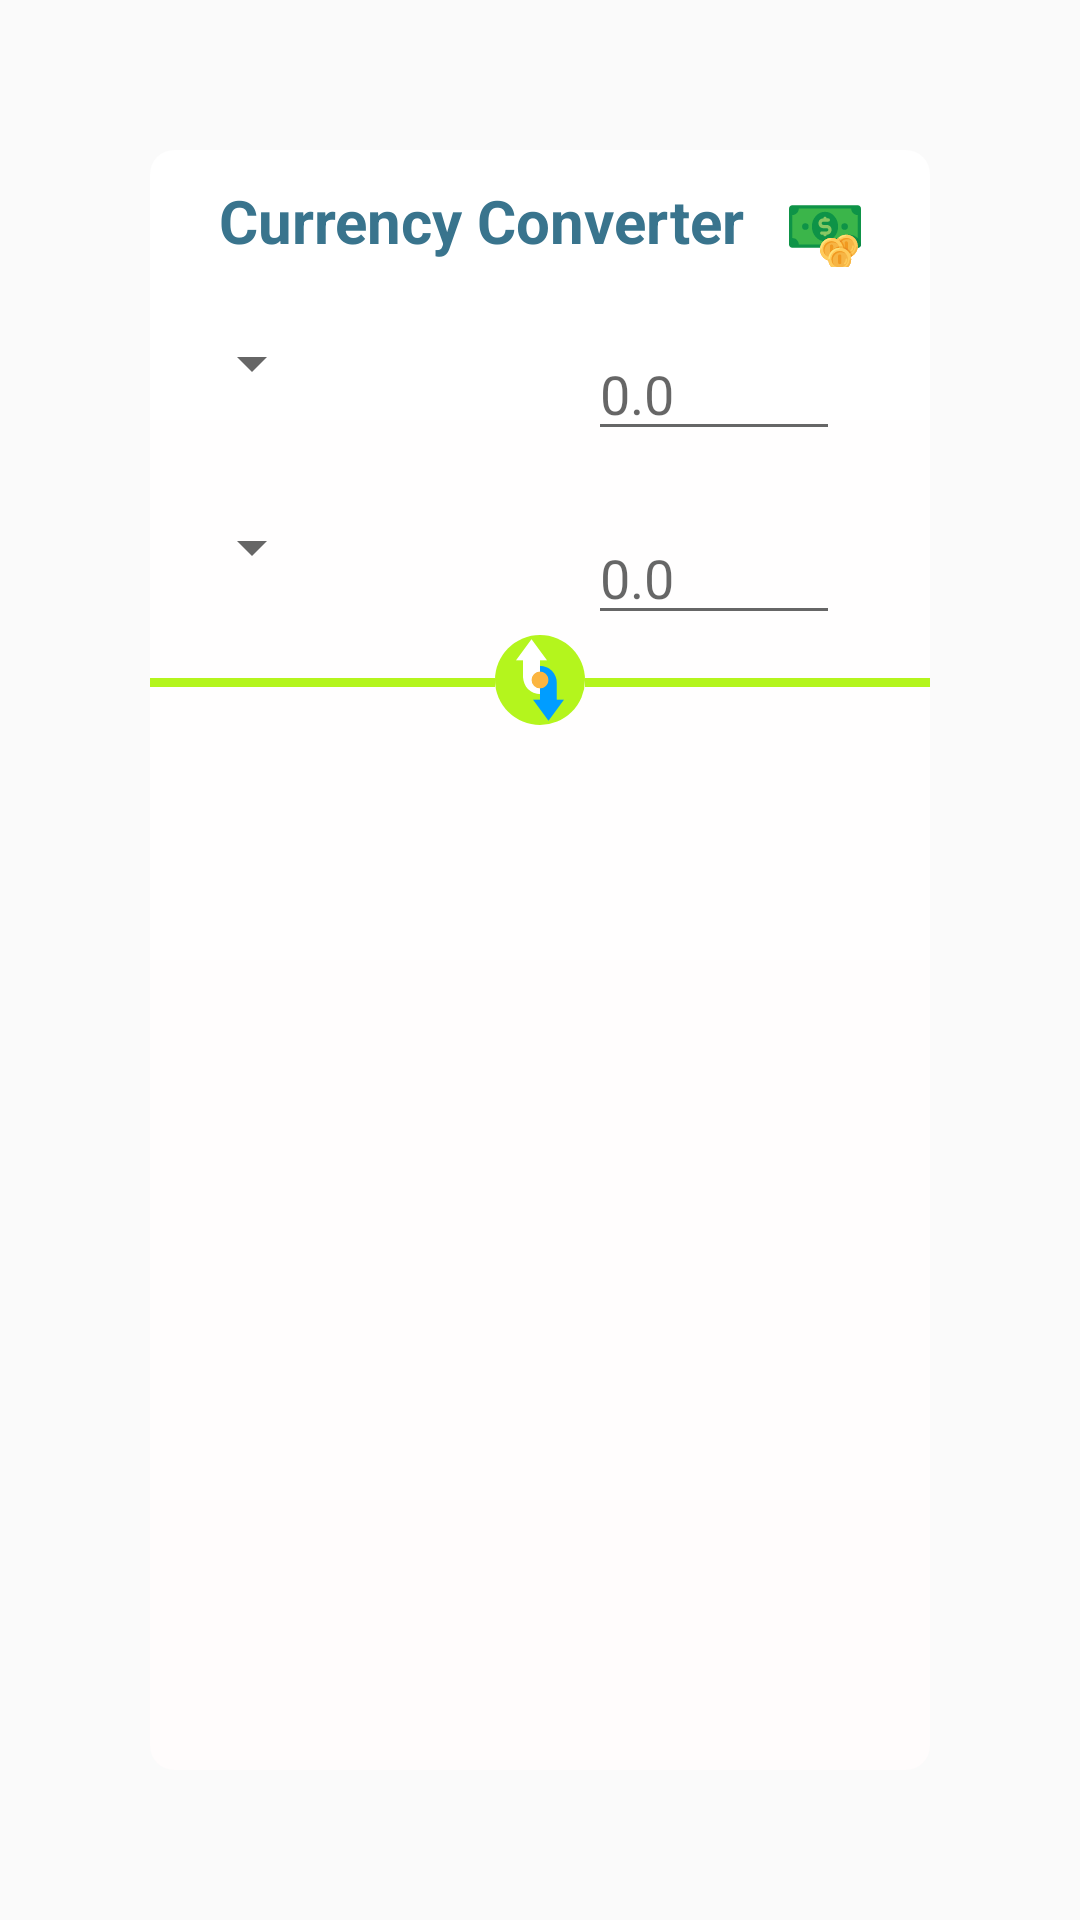

Named icons in this screenshot (1080px x 1920px) and their bounding boxes, (x1, y1, x2, y2):
money: (789, 205, 861, 267)
